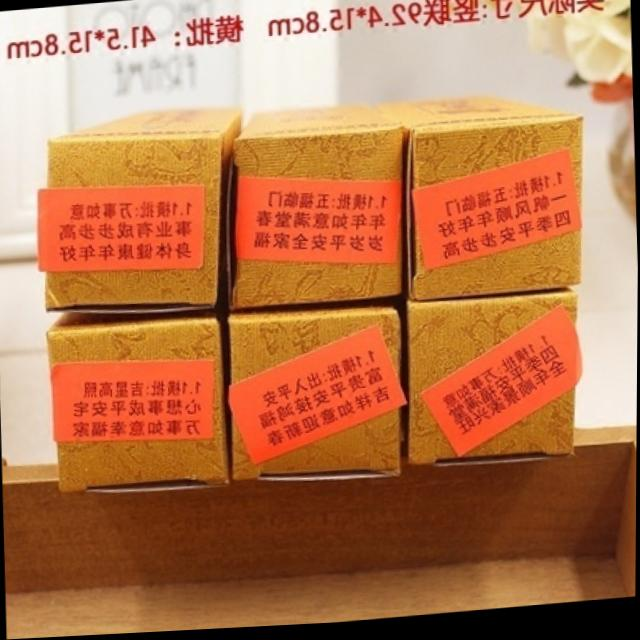box: (373, 96, 583, 306), (44, 111, 244, 313), (228, 108, 409, 312), (47, 308, 231, 493), (225, 306, 406, 483), (408, 292, 580, 469)
